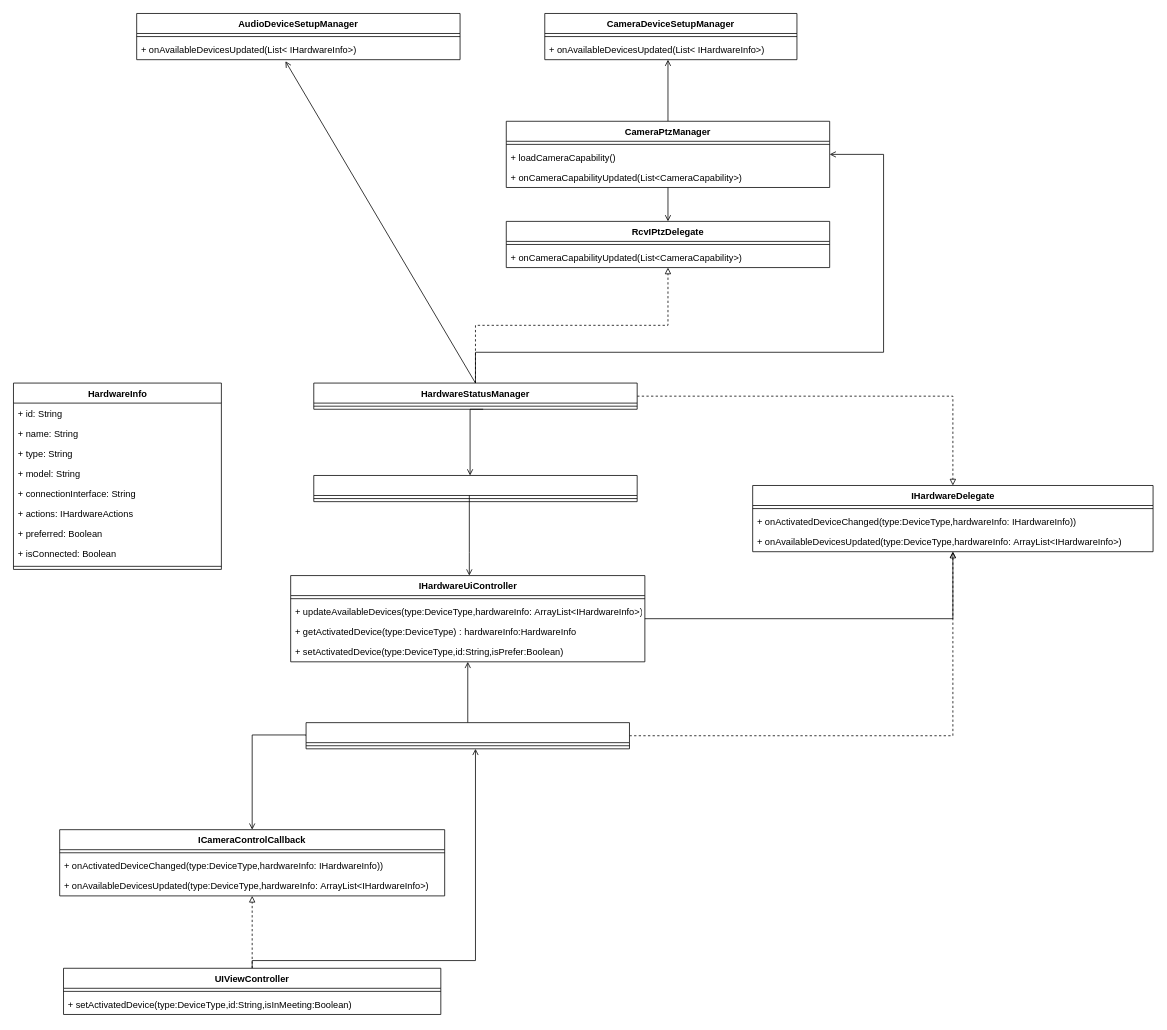
Image size: 1167x1030. Some labels were removed from this diagram. The centre of each missing label's shape, as x and y in pixels:
"ControllerCameraService" goes at point 467,735.
"HostCameraService" goes at point 475,488.
